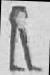W25: (3, 0, 47, 74)
